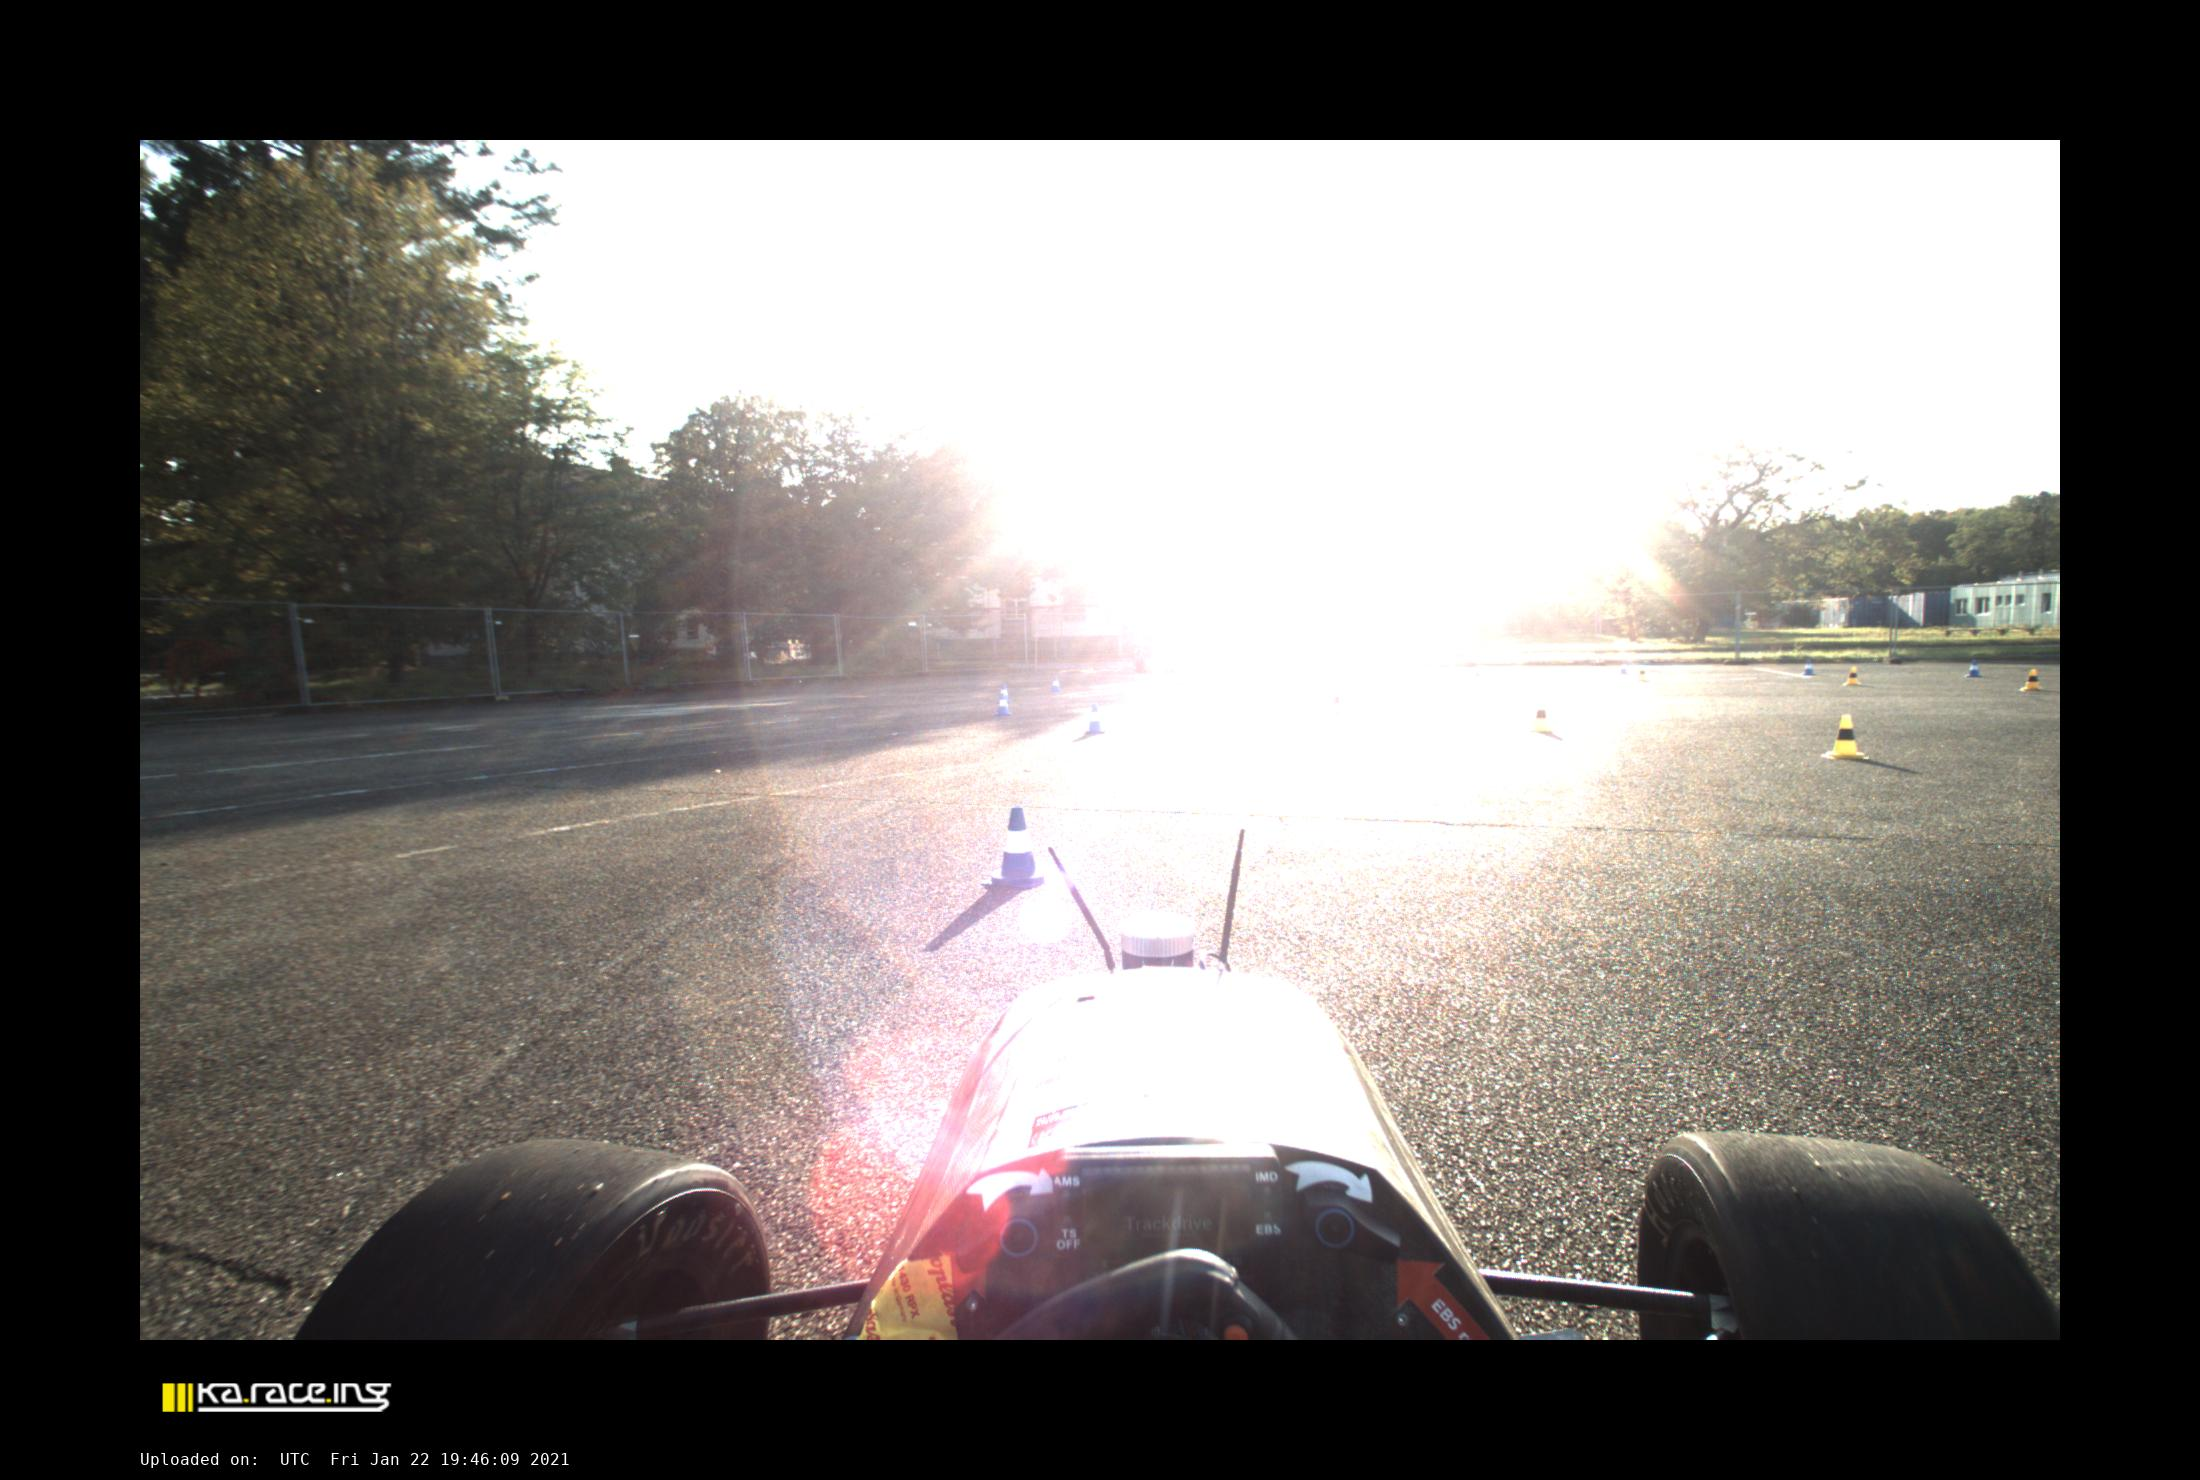blue_cone: (982, 805, 1047, 887), (1081, 701, 1108, 736), (992, 692, 1015, 717), (1965, 658, 1985, 679), (1800, 657, 1818, 678), (995, 684, 1011, 704), (1047, 675, 1062, 692), (1619, 663, 1628, 675)
yellow_cone: (1824, 712, 1871, 762), (1527, 700, 1552, 734), (2019, 666, 2046, 693), (1326, 689, 1346, 718), (1845, 663, 1863, 686), (1637, 666, 1646, 683)
